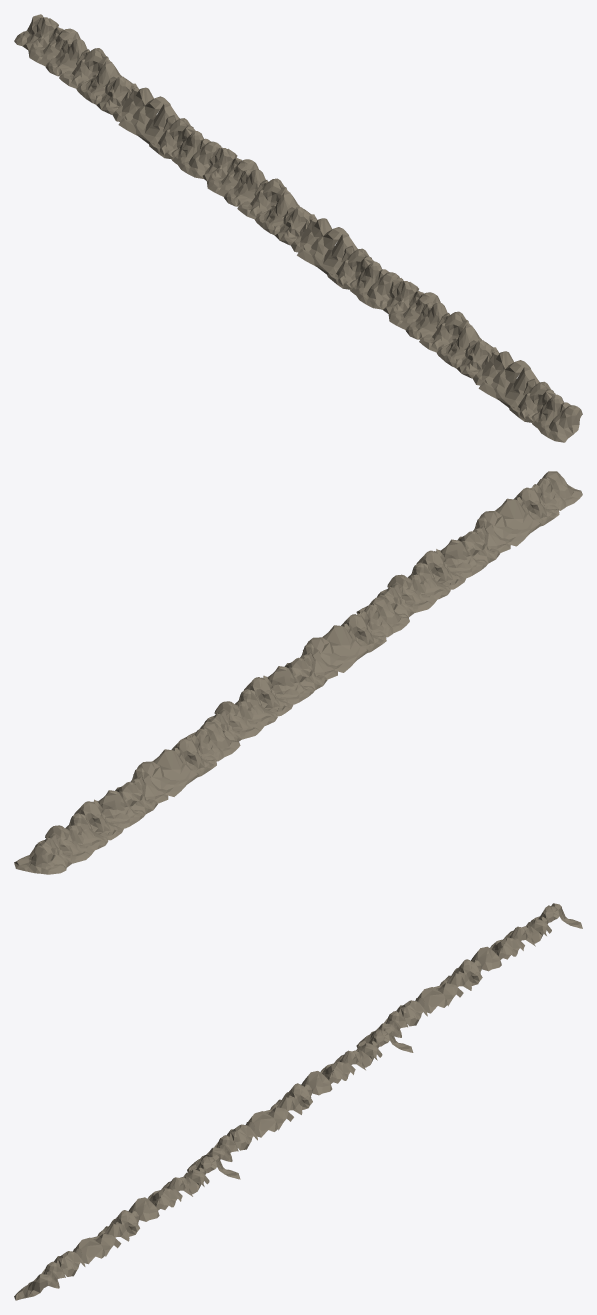
The model's file is _lvl_city_mountains.glb.
3 renders of one model, top to bottom at view 1: azimuth 30°, elevation 25°; view 2: azimuth 150°, elevation 25°; view 3: azimuth 330°, elevation 25°, orthographic. The views are drawn at different scales.
Visible parts, largest first — view 1: SM_Env_Hills_Far_Back_part2 (2), SM_Env_Hills_Far_Back_part2 (1), SM_Env_Hills_Far_Back_part2, SM_Env_Hills_Far_Back_part1, SM_Env_Hills_Far_Back_part1 (2), SM_Env_Hills_Far_Back_part1 (1); view 2: SM_Env_Hills_Far_Back_part2 (2), SM_Env_Hills_Far_Back_part2 (1), SM_Env_Hills_Far_Back_part2, SM_Env_Hills_Far_Back_part1, SM_Env_Hills_Far_Back_part1 (2), SM_Env_Hills_Far_Back_part1 (1); view 3: SM_Env_Hills_Far_Back_part2 (2), SM_Env_Hills_Far_Back_part2 (1), SM_Env_Hills_Far_Back_part2, SM_Env_Hills_Far_Back_part1 (2), SM_Env_Hills_Far_Back_part1, SM_Env_Hills_Far_Back_part1 (1).
Boxes of the visible parts, x1,y1,x2,y2 form: SM_Env_Hills_Far_Back_part2 (2): [453, 339, 582, 442]; SM_Env_Hills_Far_Back_part2 (1): [271, 206, 399, 309]; SM_Env_Hills_Far_Back_part2: [93, 75, 220, 178]; SM_Env_Hills_Far_Back_part1: [14, 14, 121, 103]; SM_Env_Hills_Far_Back_part1 (2): [379, 278, 481, 366]; SM_Env_Hills_Far_Back_part1 (1): [202, 144, 300, 233]; SM_Env_Hills_Far_Back_part2 (2): [457, 471, 582, 564]; SM_Env_Hills_Far_Back_part2 (1): [284, 597, 409, 691]; SM_Env_Hills_Far_Back_part2: [115, 722, 240, 815]; SM_Env_Hills_Far_Back_part1: [14, 790, 144, 874]; SM_Env_Hills_Far_Back_part1 (2): [356, 539, 486, 617]; SM_Env_Hills_Far_Back_part1 (1): [184, 666, 313, 741]; SM_Env_Hills_Far_Back_part2 (2): [14, 1210, 139, 1300]; SM_Env_Hills_Far_Back_part2 (1): [187, 1083, 312, 1172]; SM_Env_Hills_Far_Back_part2: [356, 959, 482, 1047]; SM_Env_Hills_Far_Back_part1 (2): [128, 1154, 240, 1221]; SM_Env_Hills_Far_Back_part1: [471, 903, 582, 971]; SM_Env_Hills_Far_Back_part1 (1): [301, 1028, 413, 1095].
Bounding box in the file's own units: 168 × 78.98 × 2889.
1 material, 1 textured.
